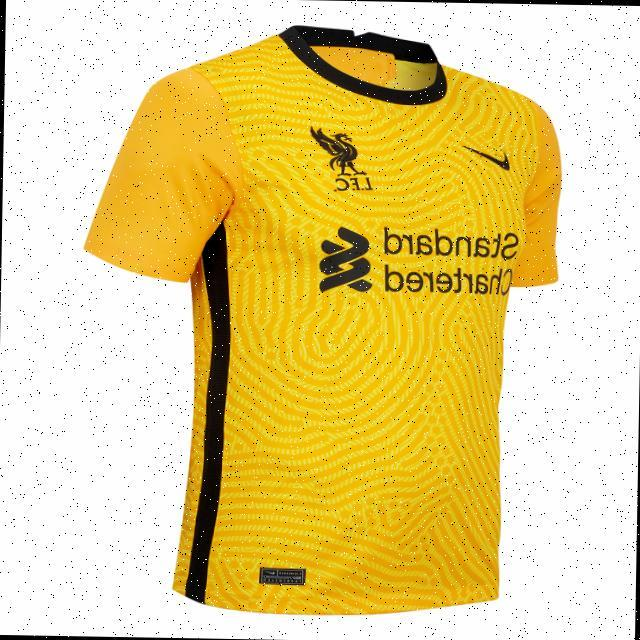Nike: (461, 145, 516, 171)
Standard Chartered: (320, 224, 521, 299)
